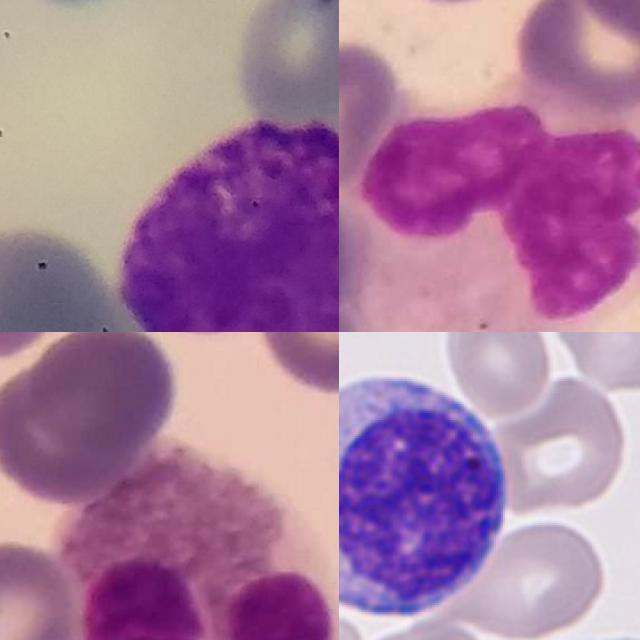Basophil: (118, 112, 339, 332)
Eosinophil: (53, 453, 339, 640)
Lymphocyte: (339, 363, 519, 631)
Monocyte: (349, 83, 640, 332)
RBC: (492, 372, 633, 520), (460, 518, 607, 640), (441, 332, 553, 420), (547, 332, 640, 395)
